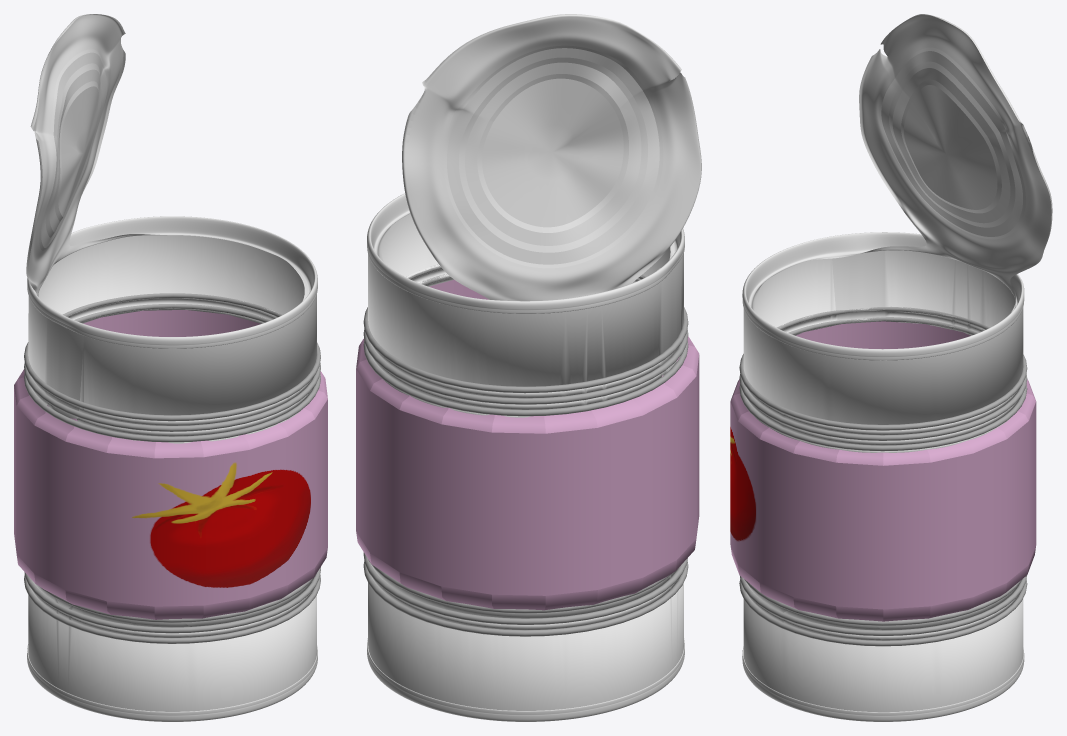
The model's file is TinCan.fbx.
3 views of the same model, side by side, from view 1: azimuth 30°, elevation 25°; view 2: azimuth 150°, elevation 25°; view 3: azimuth 270°, elevation 25° (orthographic). The views are drawn at different scales.
Parts seen in each view (by area): view 1: kaleng, pCylinder1, polySurface22, polySurface21, polySurface1, polySurface20, polySurface2, polySurface3; view 2: kaleng, pCylinder1, polySurface22, polySurface21, polySurface20, polySurface1, polySurface2, polySurface3; view 3: kaleng, pCylinder1, polySurface22, polySurface21, polySurface1, polySurface20, polySurface2, polySurface3.
Boxes of the visible parts, x1,y1,x2,y2 form: kaleng: (26, 14, 317, 721); pCylinder1: (14, 310, 327, 619); polySurface22: (24, 293, 320, 421); polySurface21: (24, 304, 320, 431); polySurface1: (24, 575, 320, 643); polySurface20: (24, 373, 320, 442); polySurface2: (24, 567, 320, 633); polySurface3: (39, 573, 316, 622); kaleng: (367, 14, 701, 721); pCylinder1: (356, 279, 699, 610); polySurface22: (363, 264, 688, 393); polySurface21: (363, 274, 688, 404); polySurface20: (363, 340, 688, 416); polySurface1: (363, 561, 688, 636); polySurface2: (363, 552, 687, 624); polySurface3: (368, 559, 671, 613); kaleng: (742, 14, 1052, 721); pCylinder1: (730, 321, 1036, 621); polySurface22: (739, 306, 1027, 430); polySurface21: (739, 317, 1027, 440); polySurface1: (739, 579, 1027, 646); polySurface20: (739, 384, 1027, 451); polySurface2: (739, 575, 1026, 635); polySurface3: (744, 579, 1022, 625).
Size of the model in its own units: 227 by 477 by 229.
